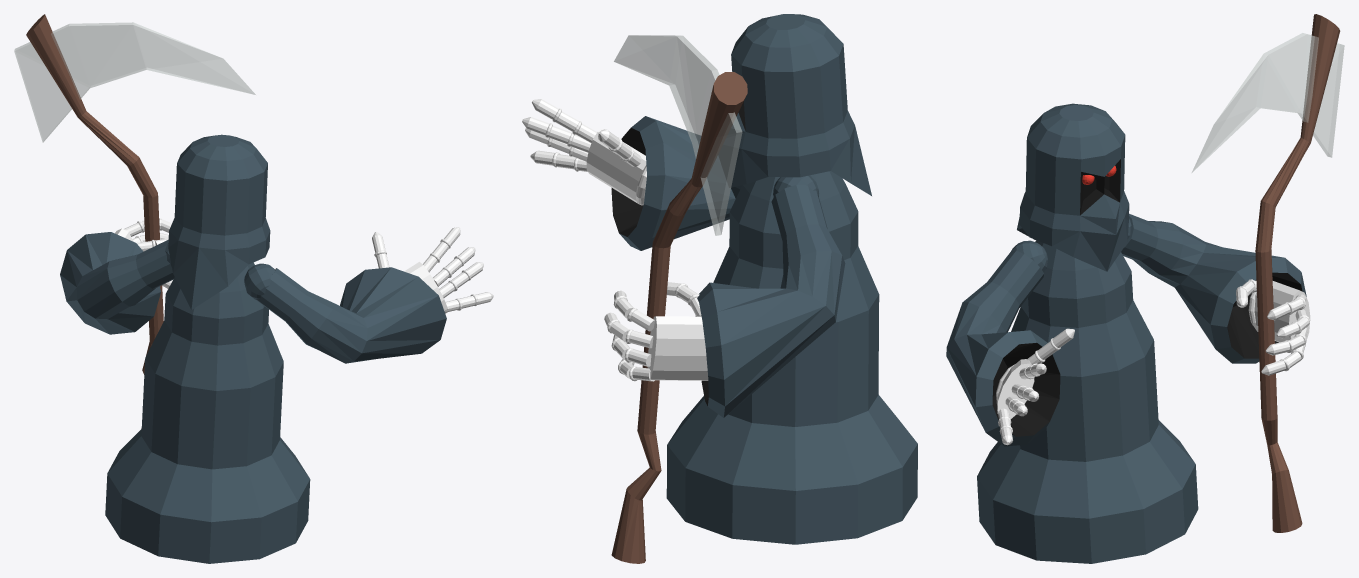
Rendered from nazgul.glb.
3 renders of one model, left to right at view 1: azimuth 30°, elevation 25°; view 2: azimuth 150°, elevation 25°; view 3: azimuth 270°, elevation 25°, orthographic. The views are drawn at different scales.
Parts seen in each view (by area): view 1: group892375890; view 2: group892375890; view 3: group892375890.
Part boxes in pixels (box(x1,y1,x2,y2)): group892375890: box(14, 14, 493, 563); group892375890: box(522, 14, 917, 563); group892375890: box(946, 14, 1344, 563).
Bounding box in the file's own units: 0.8913 × 1.12 × 0.8459.
